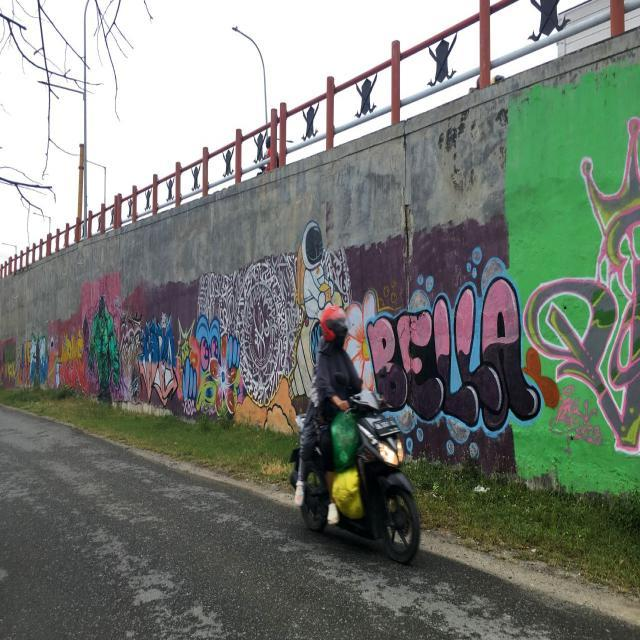-: (523, 114, 640, 454), (197, 222, 352, 410), (367, 277, 541, 433), (183, 315, 240, 419), (85, 291, 124, 393), (132, 321, 176, 400), (57, 334, 87, 385), (27, 332, 50, 386)
